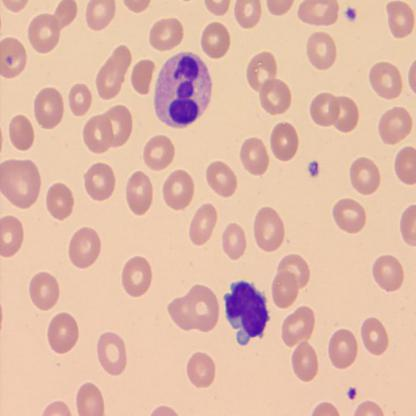Segmented neutrophil: (153, 48, 214, 130)
